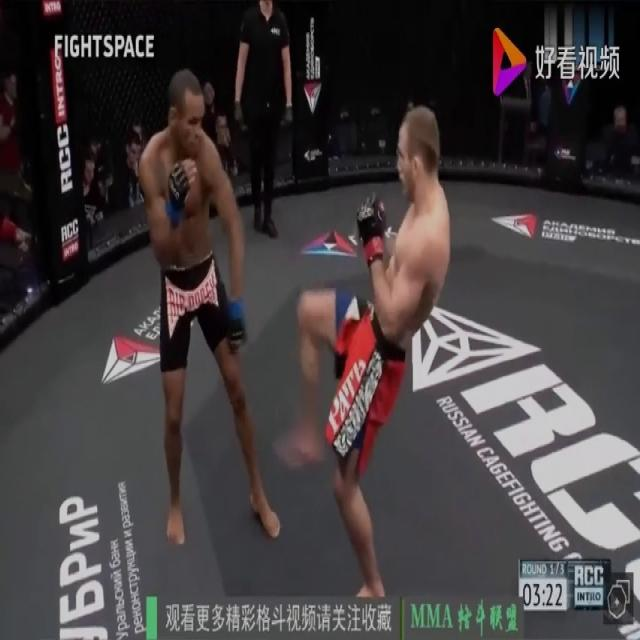fight: (135, 70, 455, 608)
